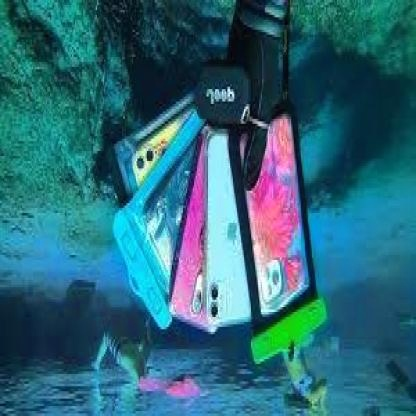cellphone: (241, 112, 316, 320), (169, 122, 240, 324), (206, 127, 264, 330)
